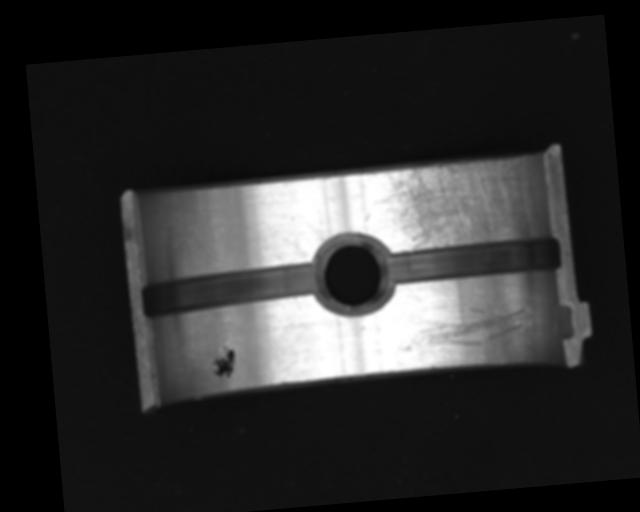blot: (208, 345, 237, 381)
gap: (135, 261, 325, 321), (383, 235, 563, 287)
hole: (311, 234, 396, 313)
nick: (396, 301, 530, 356), (298, 210, 327, 247)
scratch: (367, 154, 540, 254)
